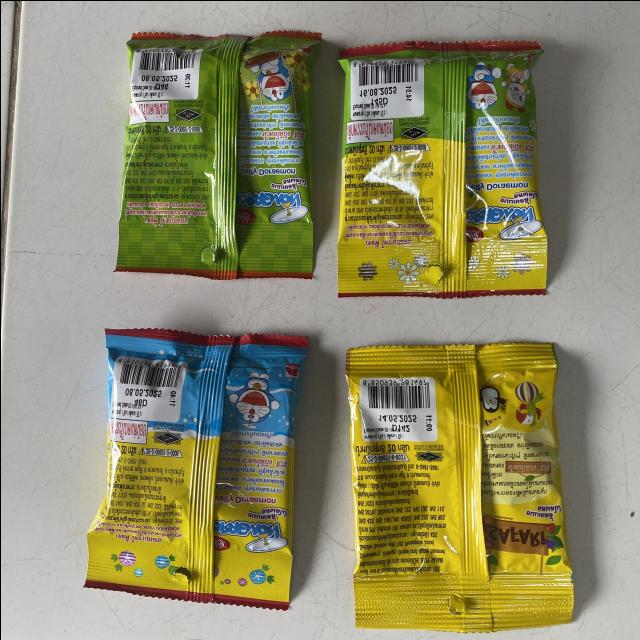plastik: (345, 342, 573, 631), (84, 328, 306, 609), (336, 40, 546, 296), (116, 31, 320, 279)
